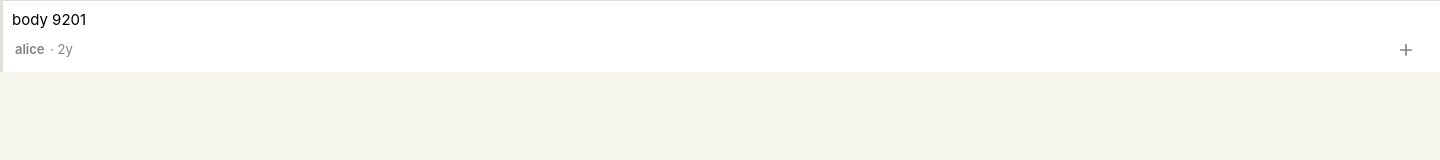
Test: <Comment> upvote wiring › tapping an already-upvoted comment sends how=un and clears aria-pressed
The width and height of the screenshot is (1440, 160).
Expected: the text "body 9201" is shown, top-left (12, 10), bottom-right (86, 29)
What coordinates should you click on to do the following:
click the button named "expand comment"
I would click on:
 (1406, 50)
Its box is top-left (1384, 32), bottom-right (1428, 68).
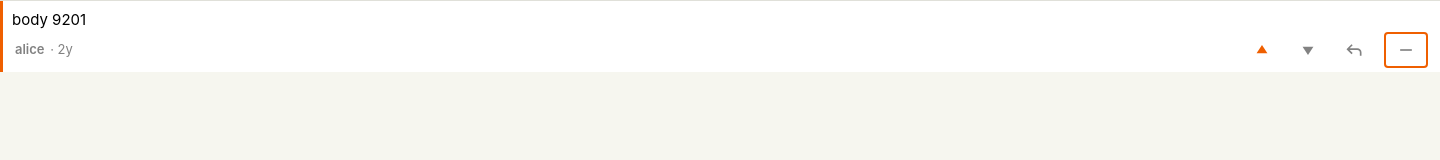
What coordinates should you click on to do the following:
click the button with test id "comment-upvote"
I would click on:
 (1262, 50)
Its box is top-left (1240, 32), bottom-right (1284, 68).
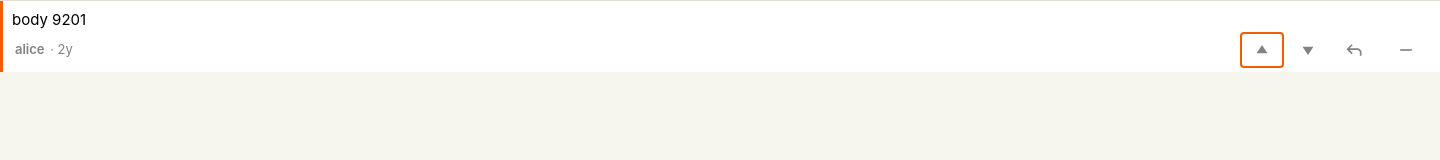
Result: the button with test id "comment-upvote" is not pressed at top-left (1240, 32), bottom-right (1284, 68)
